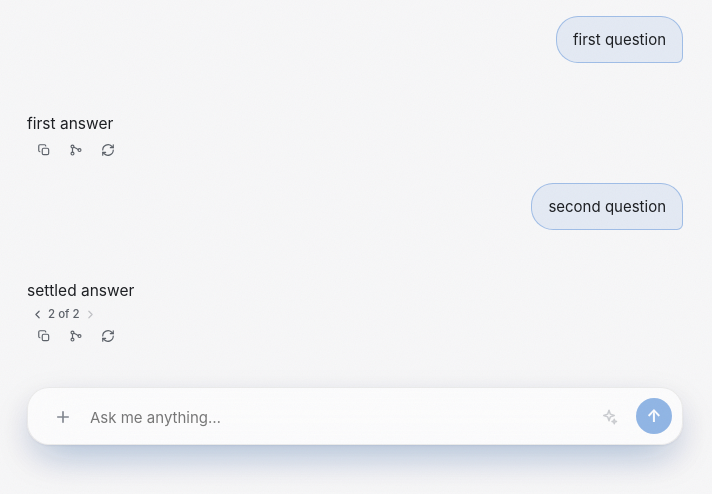
the composer's Message improver while a reply is running › waits for it, shown as waiting with its own Cancel, then runs
The width and height of the screenshot is (712, 494).
In the text box: (336, 419) [90,403,582,434], type "make it clearer"
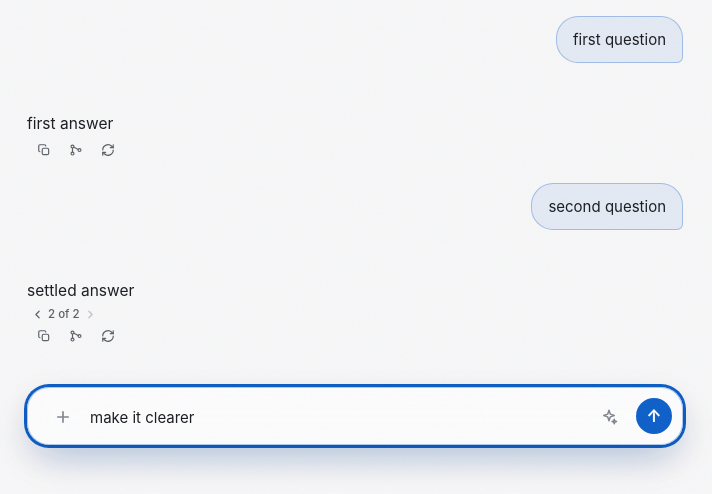
Click the button named "rewrites what you typed": (609, 417) [592,400,626,434]
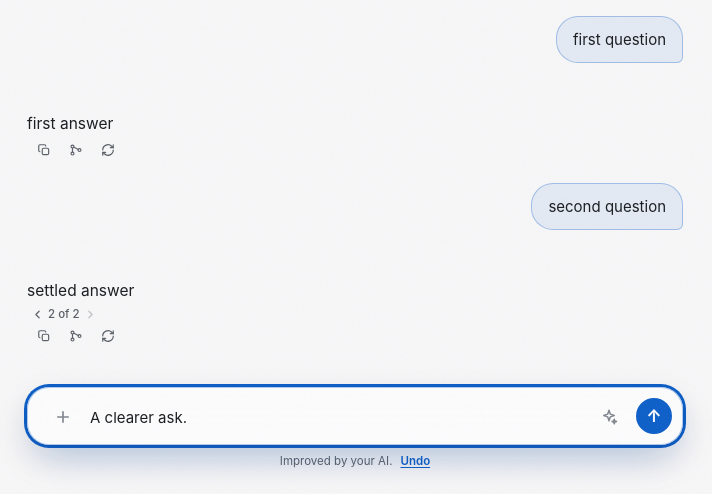
Check: the button named "Cancel this request" is shown, box [636,398,672,434]
Check: the text "Waiting for the model to finish its current task…" is shown, box [280,453,392,469]
Check: the text box showing "A clearer ask." is shown, box [90,403,582,434]
